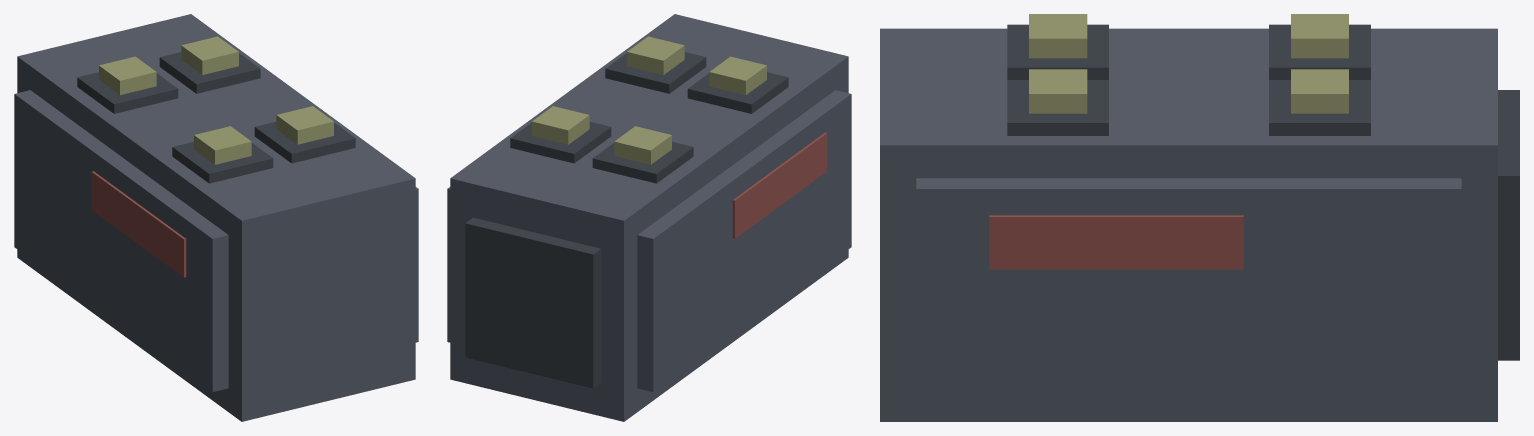
The picture shows the model from 3 angles, left to right: view 1: azimuth 30°, elevation 25°; view 2: azimuth 150°, elevation 25°; view 3: azimuth 270°, elevation 25°; orthographic projection. The views are drawn at different scales.
Size of the model in its own units: 0.46 by 0.47 by 0.88.
